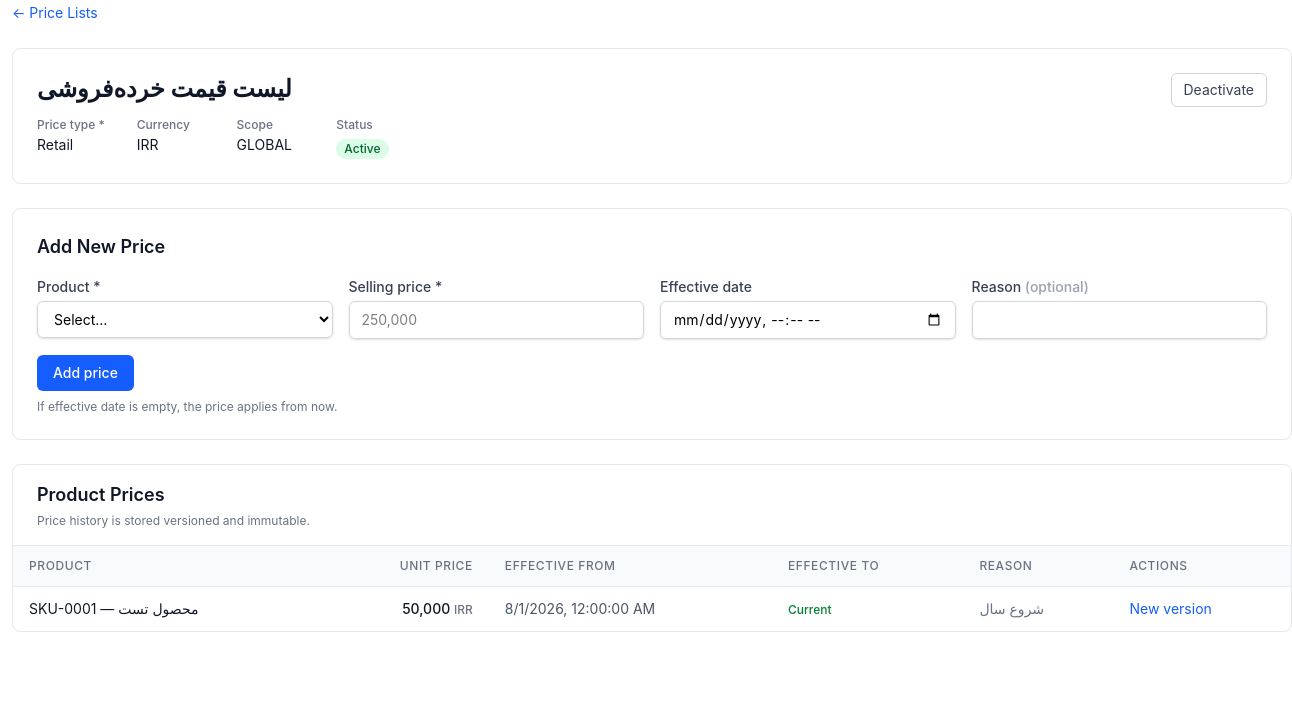
Test: PriceListDetailPage › requires a product to be selected before adding a price
Check: the heading "Add New Price" is shown, box [37,236,165,257]
Click the button "Add price": {"x": 85, "y": 373} [37,355,134,391]
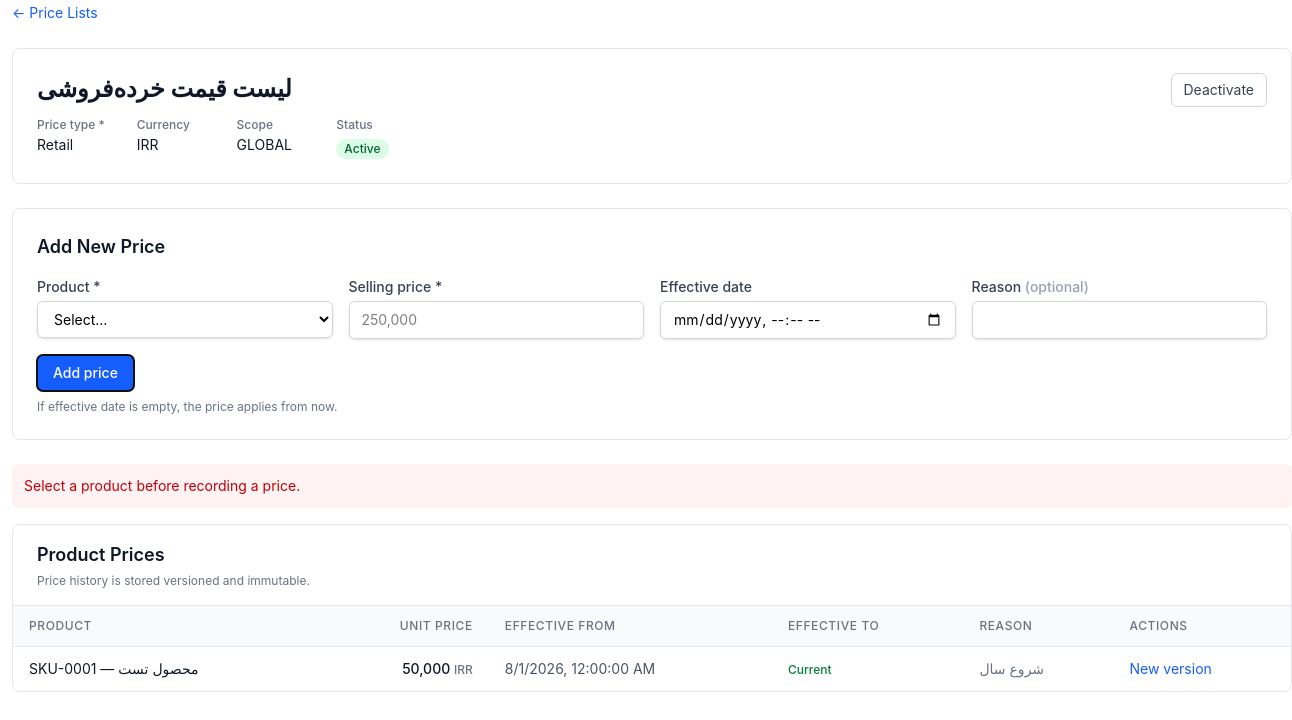
Check: the text "Select a product before recording a price." is shown, box [12,464,1291,508]
